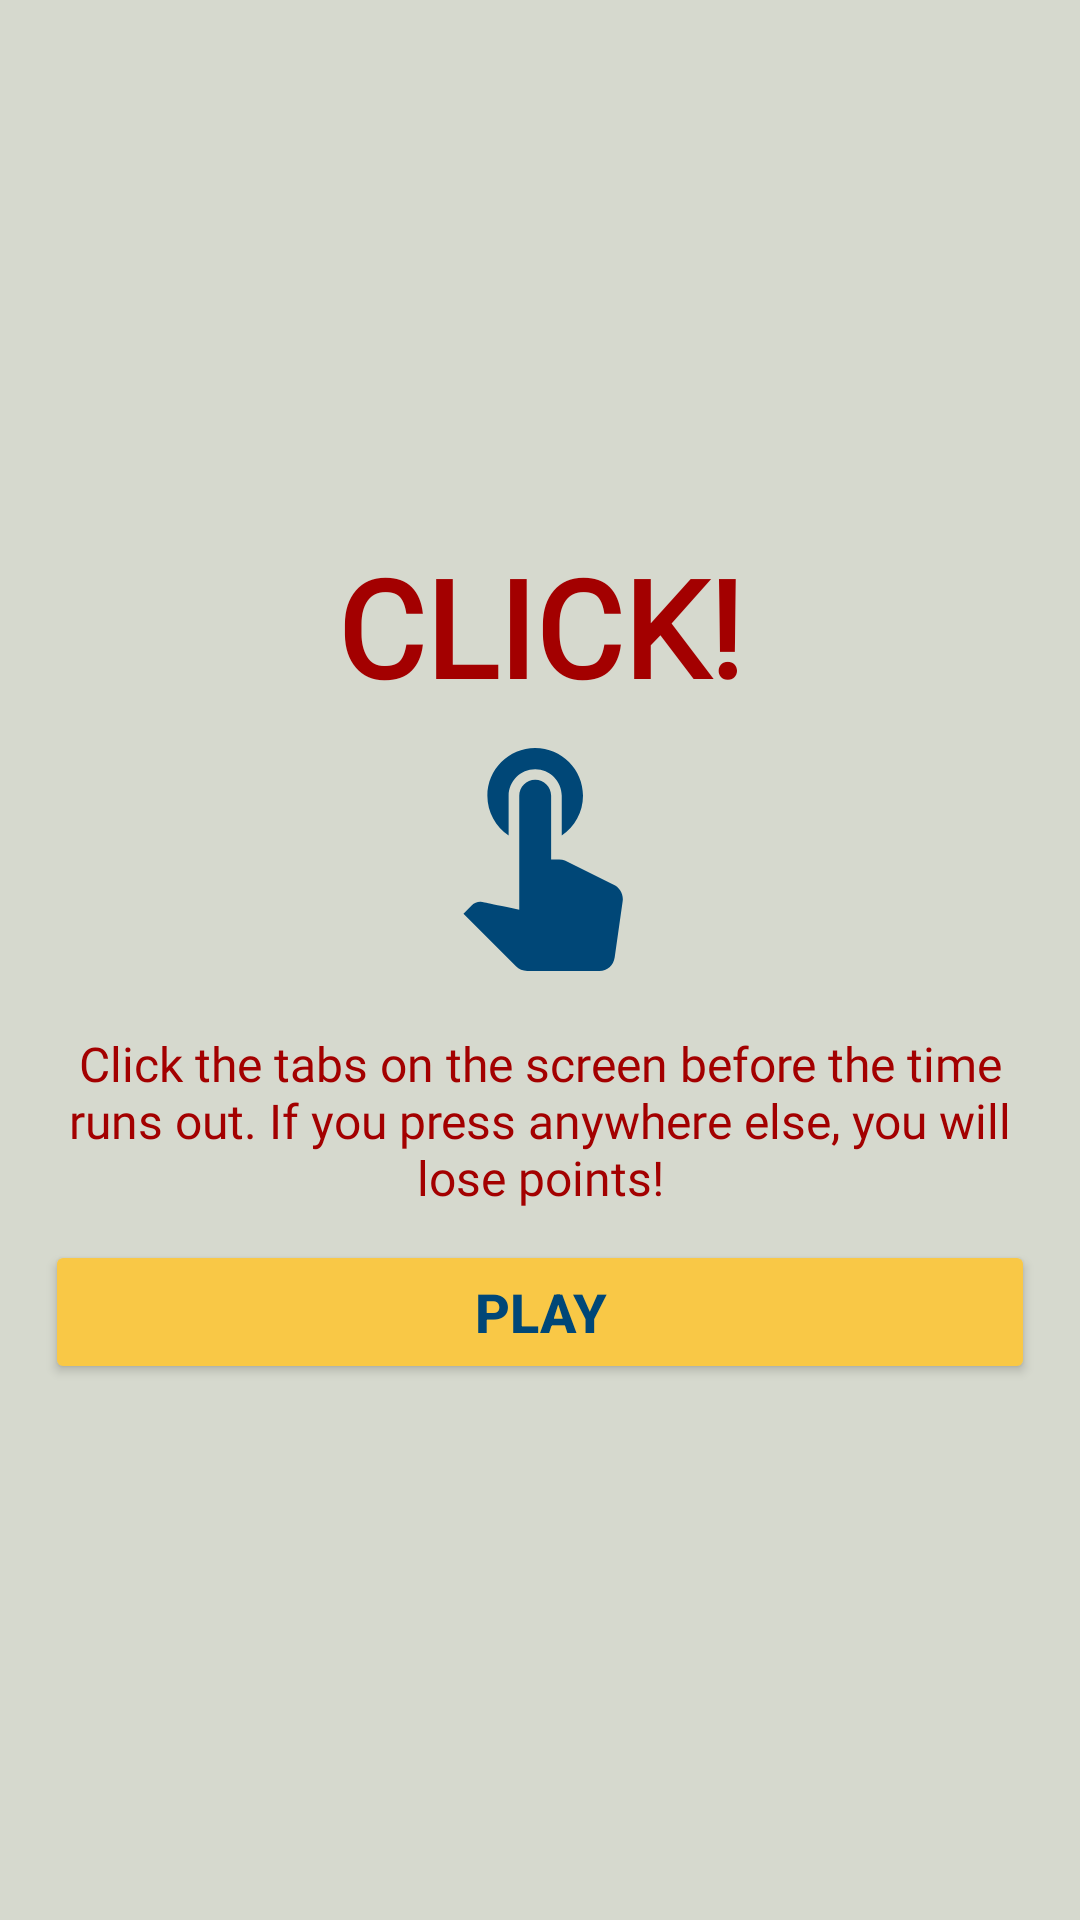

Icon click points for this 1080 x 1920 phone screenshot, format [x,y]:
touch: [543,859]
